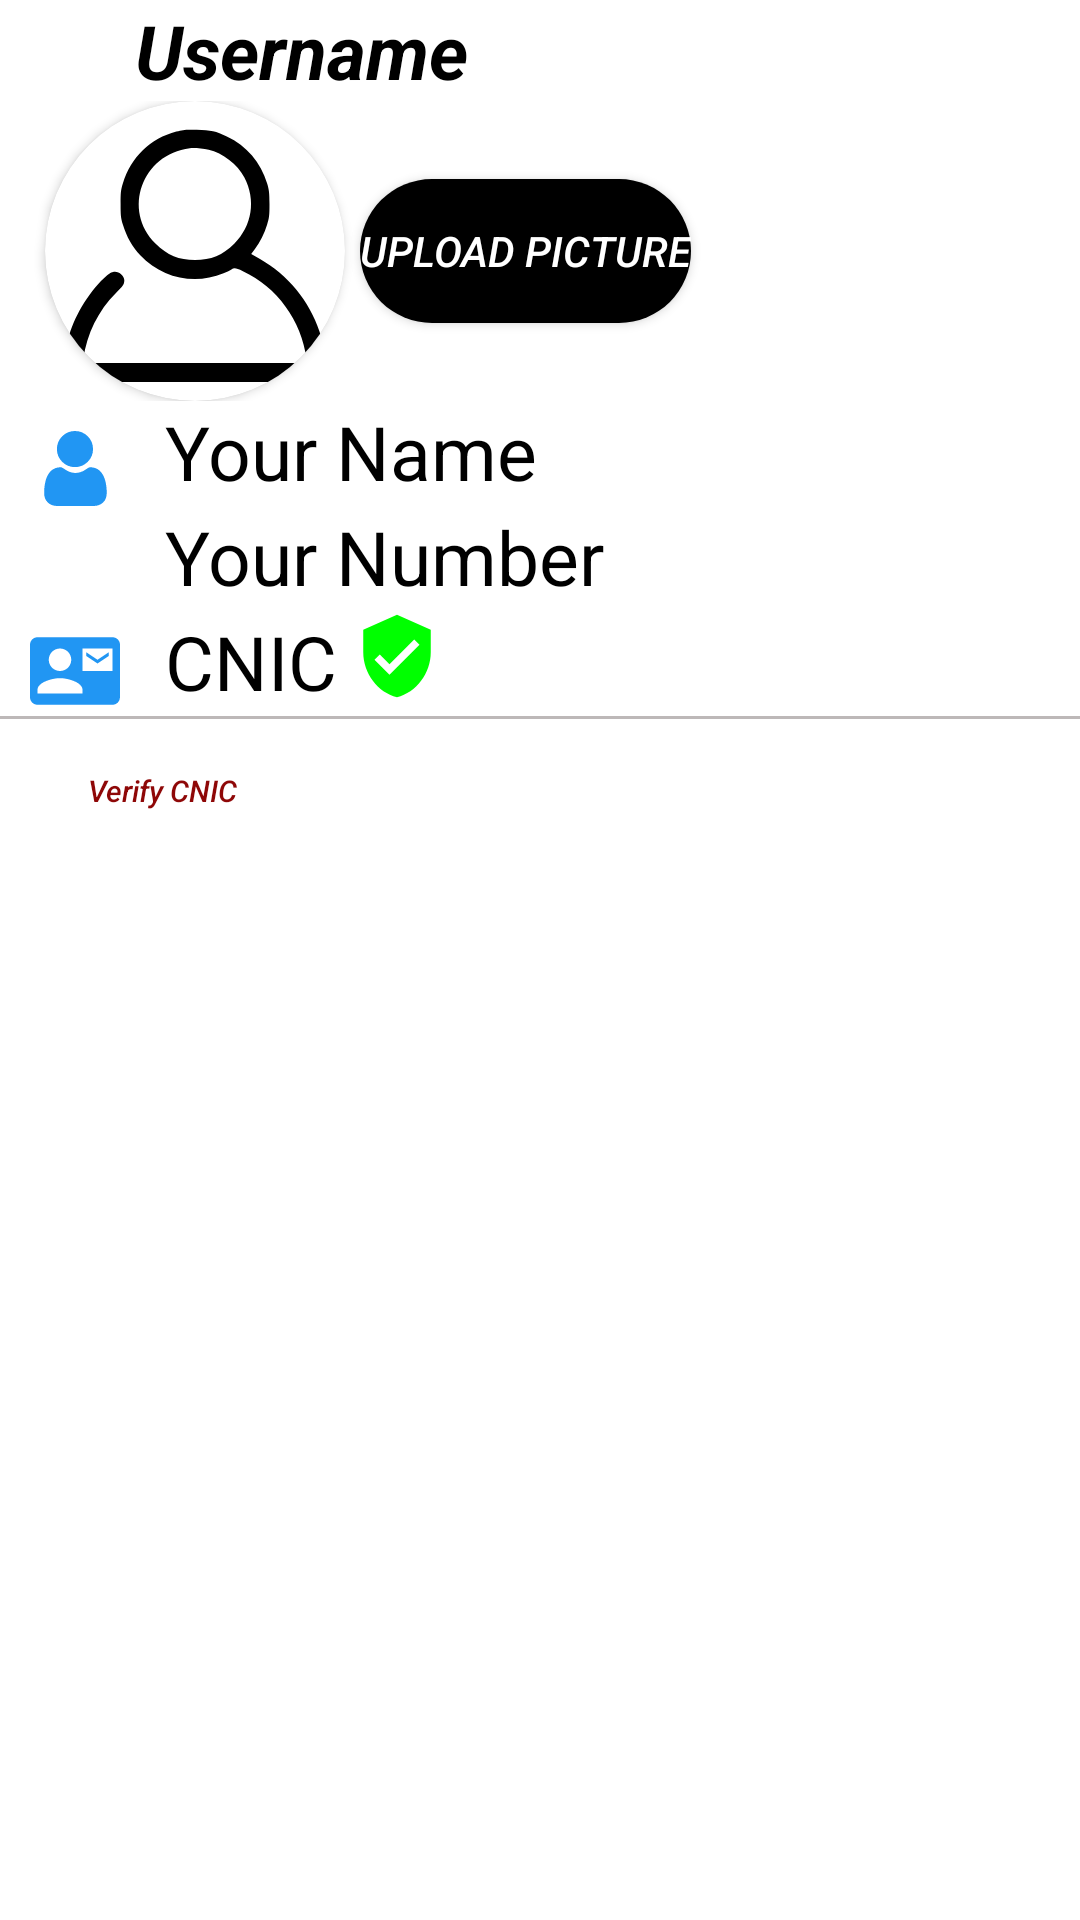

Where to tap for icons on this 1080*1920 app screen, as point (x, y):
profile: point (182, 265)
verified: point (397, 656)
